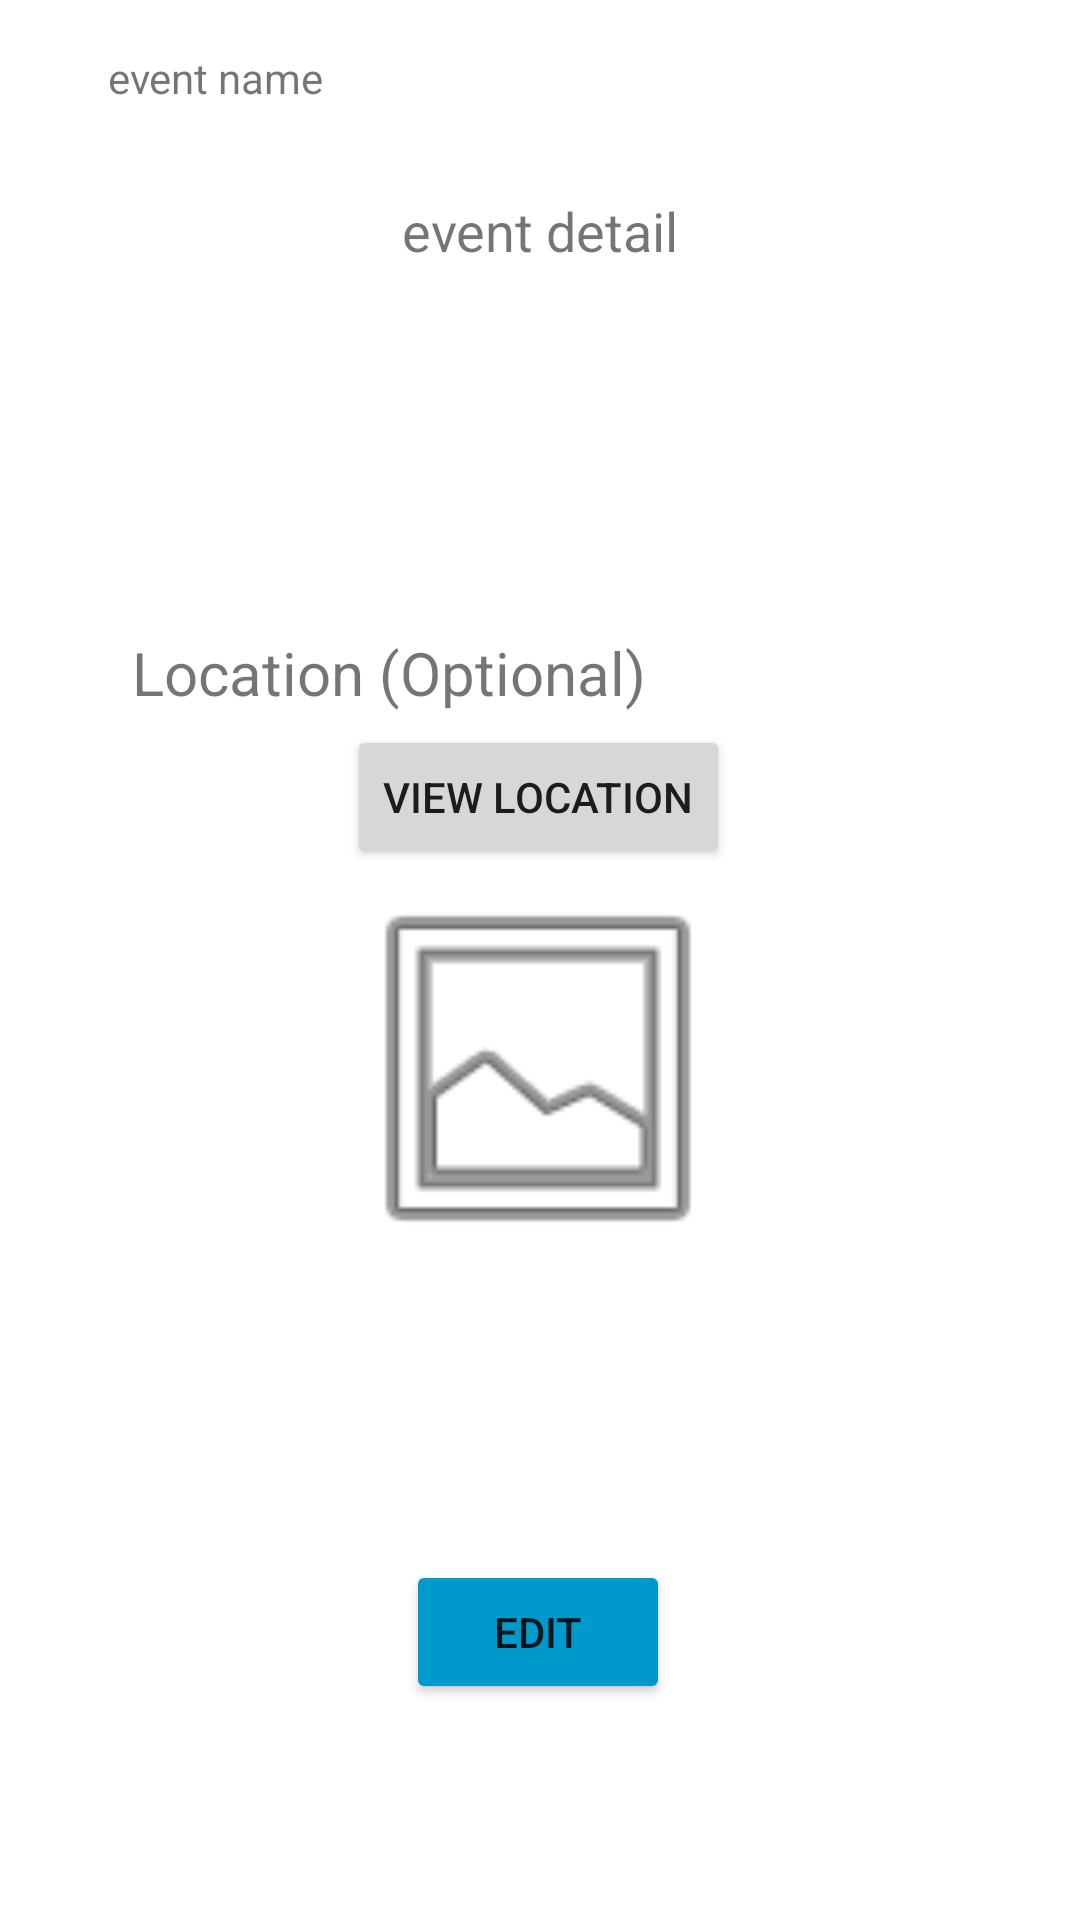

Icon click points for this 1080w x 1920h phone screenshot, format point (x, y):
gallery: point (538, 1068)
